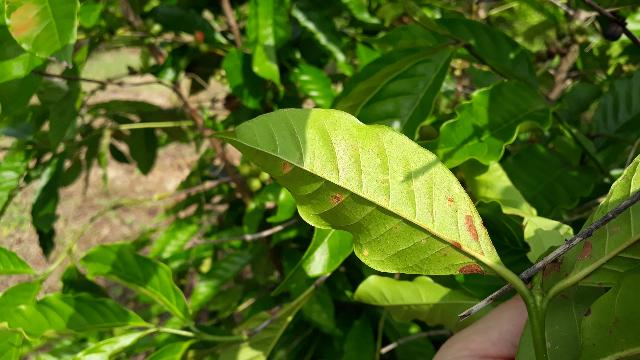red_spider_mite: (204, 107, 507, 279)
